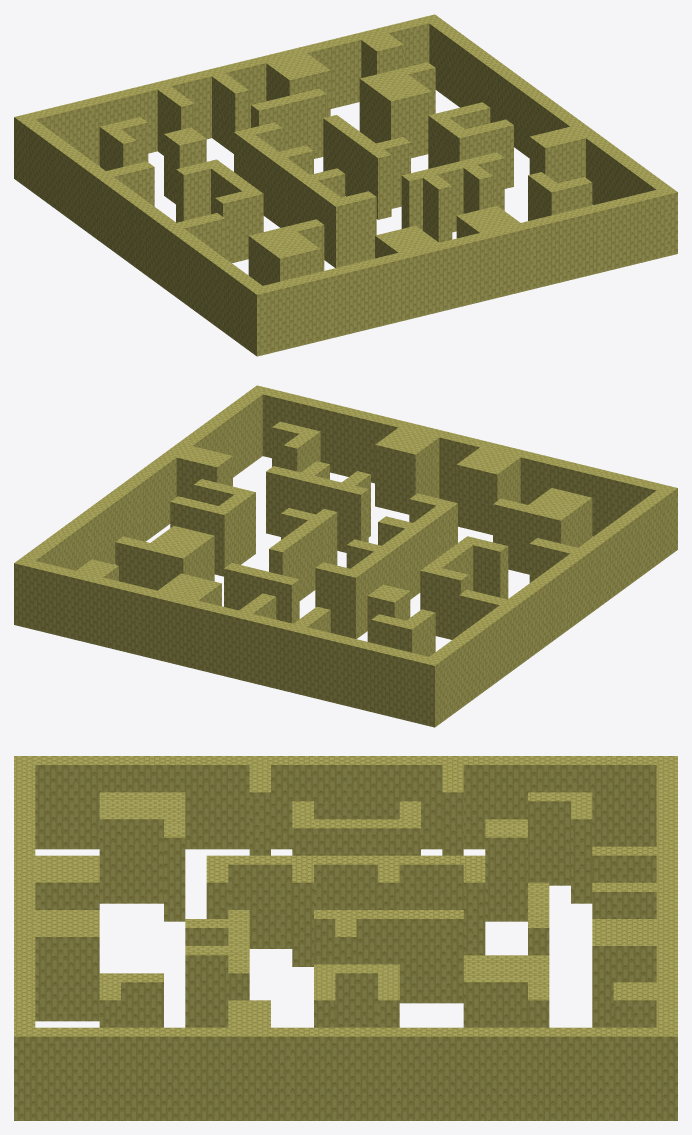
Rendered from map.fbx.
3 views of the same model, one above another, from view 1: azimuth 30°, elevation 25°; view 2: azimuth 150°, elevation 25°; view 3: azimuth 270°, elevation 25° (orthographic). The views are drawn at different scales.
Visible parts, largest first — view 1: Wall; view 2: Wall; view 3: Wall.
Boxes of the visible parts, x1=… form: Wall: x1=14, y1=14, x2=677, y2=356; Wall: x1=14, y1=385, x2=677, y2=727; Wall: x1=14, y1=756, x2=677, y2=1120.
Bounding box in the file's own units: 5000 × 700 × 5000.
Materials: 1 (1 with a texture image).
